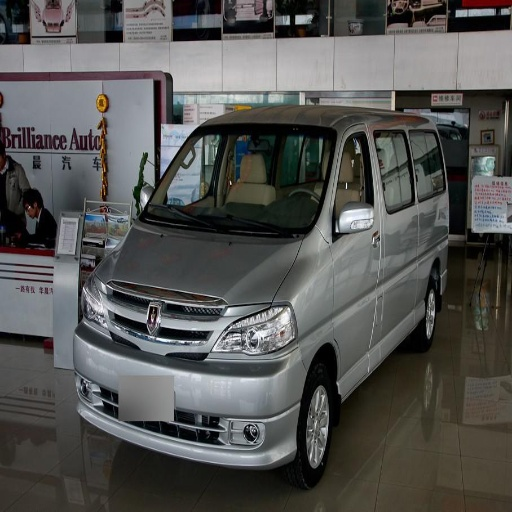front_bumper: (73, 303, 309, 465)
front_glass: (141, 124, 335, 238)
front_left_door: (329, 132, 385, 375)
